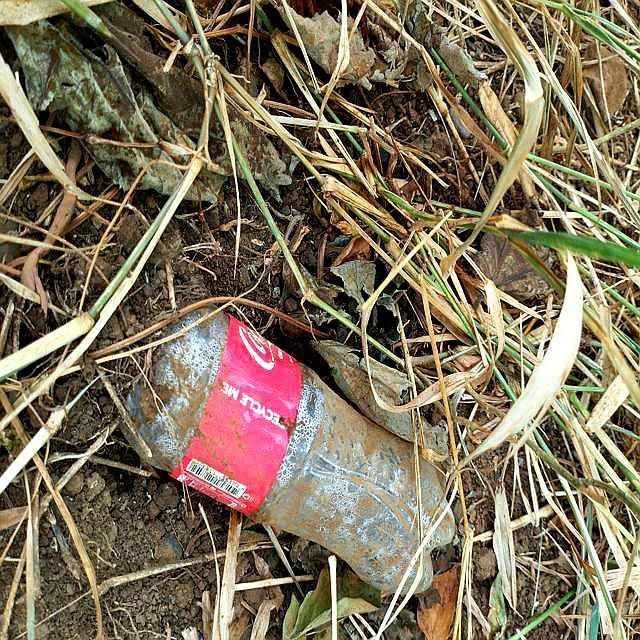Non-biodegradable: (123, 309, 455, 597)
